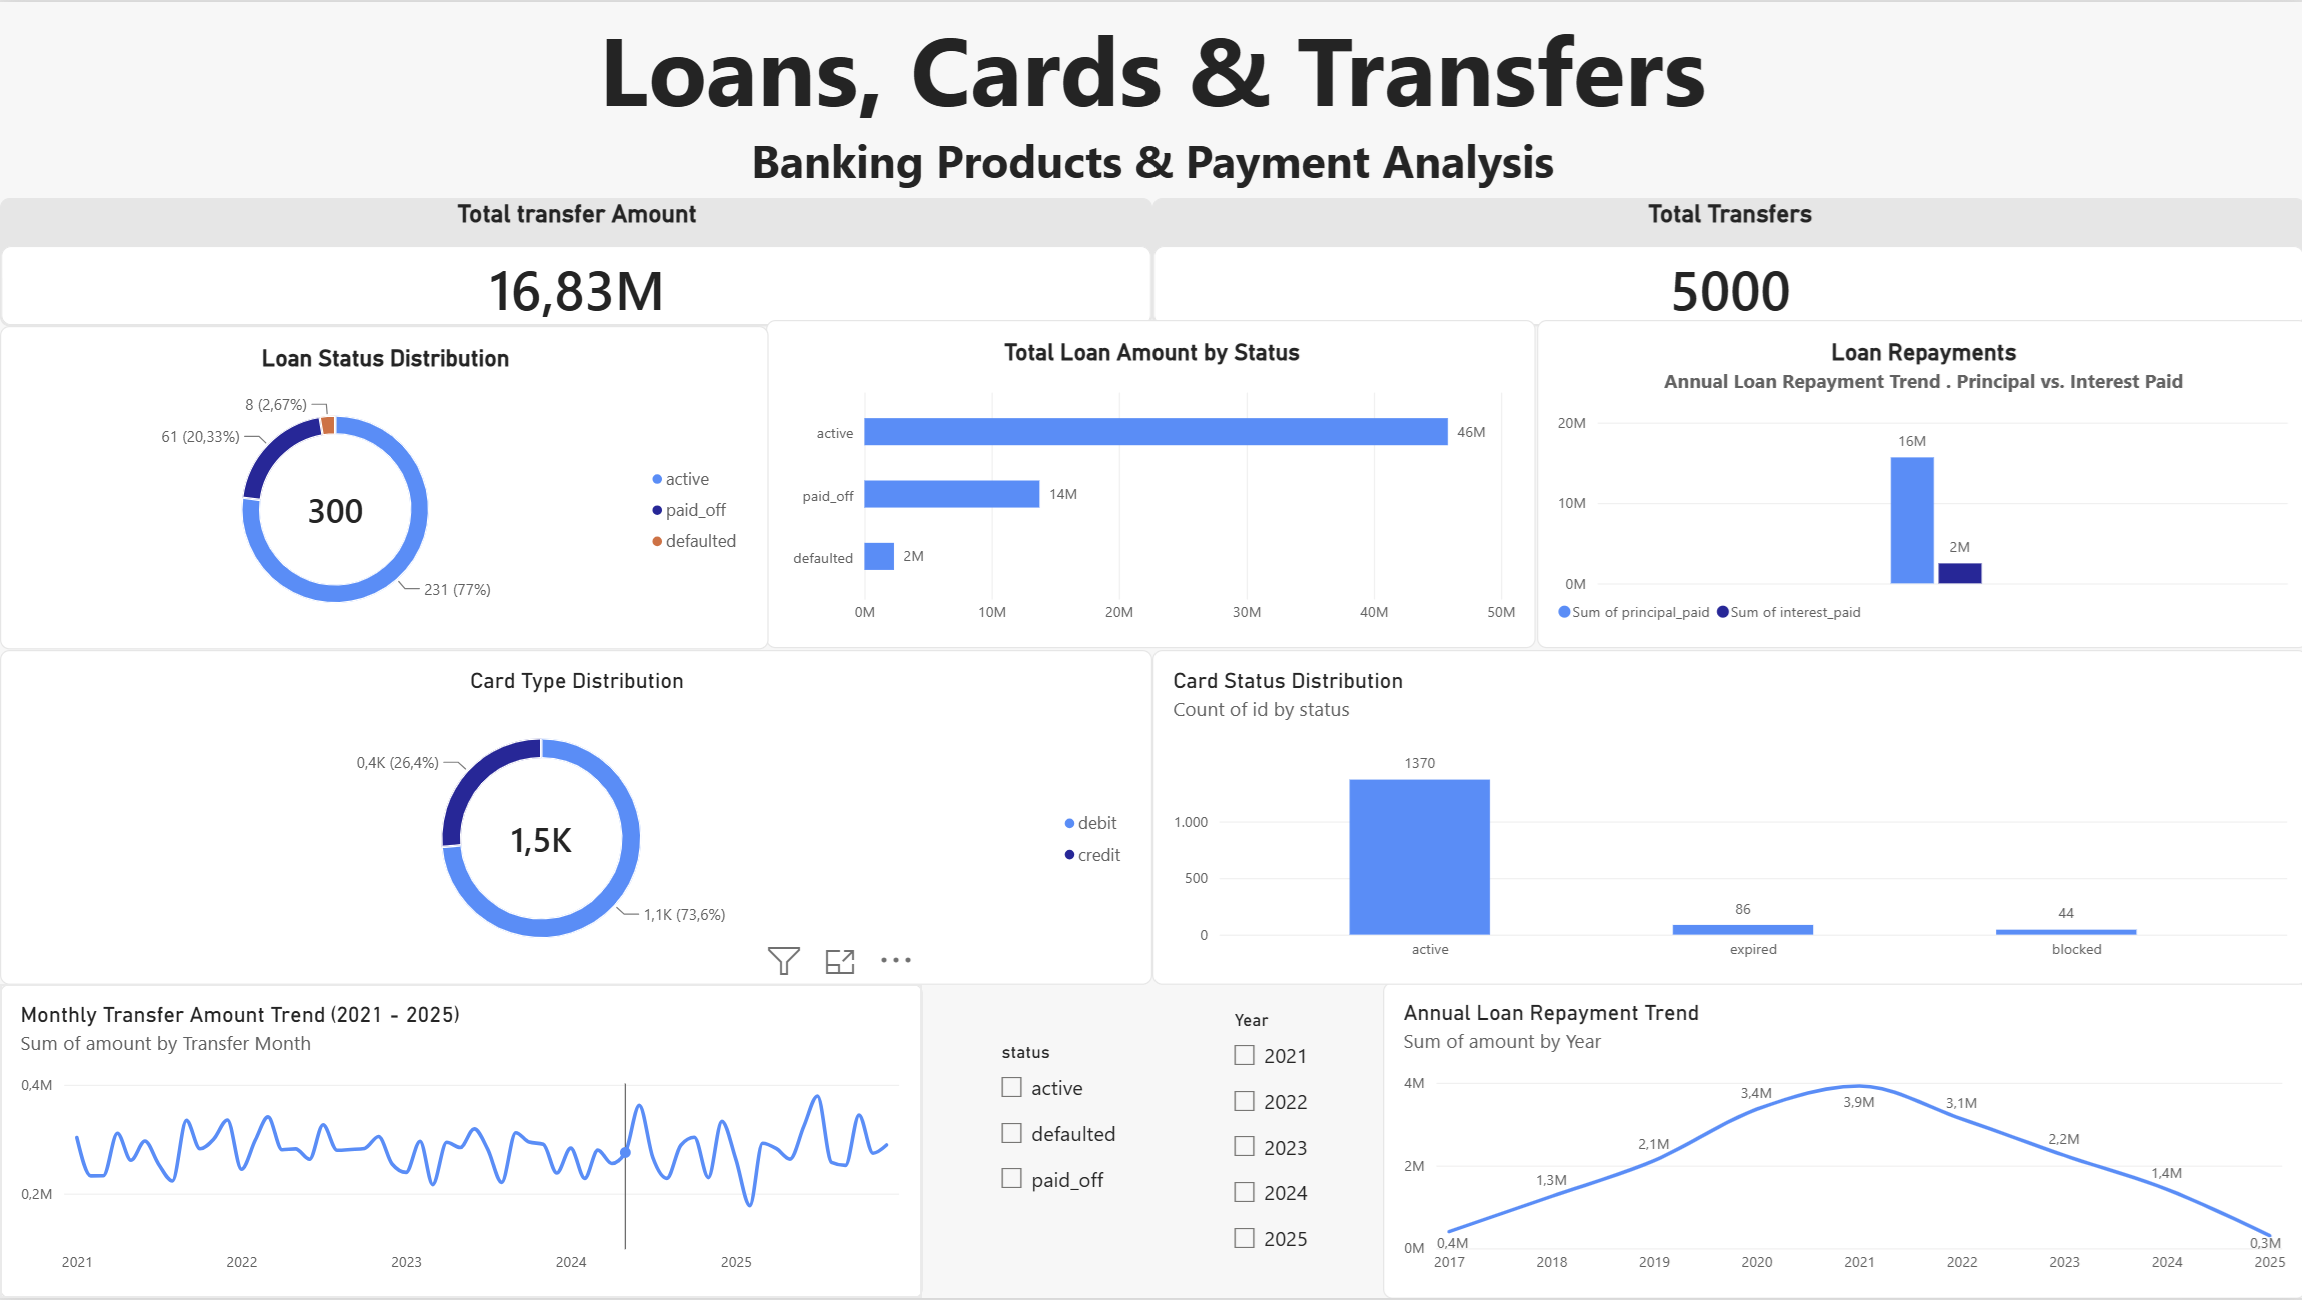

The dashboard page shown, as its layout file describes it:
{"tool":"powerbi","page":{"name":"Loans, Cards & Transfers","canvas":[1920,1080],"ordinal":1},"visuals":[{"type":"lineChart","title":"Annual Loan Repayment Trend","fields":{"Category":["public loan_payments.payment_date.Variation.Date Hierarchy.Year","public loan_payments.payment_date.Variation.Date Hierarchy.Quarter","public loan_payments.payment_date.Variation.Date Hierarchy.Month","public loan_payments.payment_date.Variation.Date Hierarchy.Day"],"Y":["Sum(public loan_payments.amount)"]},"box":[1151.2,816.6,768.8,263.9],"z":0},{"type":"donutChart","title":"Card Type Distribution","fields":{"Category":["public cards.type"],"Y":["CountNonNull(public cards.id)"]},"box":[0,539.3,960,279.2],"z":1000},{"type":"clusteredColumnChart","title":"Card Status Distribution","fields":{"Category":["public cards.status"],"Y":["CountNonNull(public cards.id)"]},"box":[960,539.3,961.9,279.2],"z":2000},{"type":"cardVisual","title":"Total transfer Amount","fields":{"Data":["Sum(public transfers.amount)"]},"box":[0,162.5,960,107.1],"z":3000},{"type":"cardVisual","title":"Total Transfers","fields":{"Data":["CountNonNull(public transfers.id)"]},"box":[960,162.5,960,107.1],"z":4000},{"type":"lineChart","title":"Monthly Transfer Amount Trend (2021 - 2025)","fields":{"Category":["public transfers.Transfer Month"],"Y":["Sum(public transfers.amount)"]},"box":[0,818.5,768.8,262],"z":5000},{"type":"slicer","fields":{"Values":["public transfers.timestamp.Variation.Date Hierarchy.Year"]},"box":[1019.3,839.5,95.6,218],"z":6000},{"type":"slicer","fields":{"Values":["public loans.status"]},"box":[826.1,866.3,133.9,139.6],"z":7000},{"type":"clusteredBarChart","title":"Total Loan Amount by Status","fields":{"Category":["public loans.status"],"Y":["Sum(public loans.amount)"]},"box":[638.7,265.8,640.6,273.5],"z":8000},{"type":"donutChart","title":"Loan Status Distribution","fields":{"Category":["public loans.status"],"Y":["CountNonNull(public loans.id)"]},"box":[0,269.6,640.6,269.6],"z":9000},{"type":"clusteredColumnChart","title":"Loan Repayments","fields":{"Y":["Sum(public loan_payments.principal_paid)","Sum(public loan_payments.interest_paid)"]},"box":[1279.4,265.8,642.5,273.5],"z":10000},{"type":"textbox","box":[0,0,1920,162.5],"z":11000}]}

Visuals, with their boxes in screenshot pixels (x1, y1, x2, y2), scaled from the page's 1920x1080 canvas onto the 2302x1300 screenshot:
"Annual Loan Repayment Trend" lineChart: locate(1380, 983, 2301, 1299)
"Card Type Distribution" donutChart: locate(0, 649, 1151, 985)
"Card Status Distribution" clusteredColumnChart: locate(1151, 649, 2301, 985)
"Total transfer Amount" cardVisual: locate(0, 196, 1151, 325)
"Total Transfers" cardVisual: locate(1151, 196, 2301, 325)
"Monthly Transfer Amount Trend (2021 - 2025)" lineChart: locate(0, 985, 922, 1299)
slicer - public transfers.timestamp.Variation.Date Hierarchy.Year: locate(1222, 1011, 1337, 1273)
slicer - public loans.status: locate(990, 1043, 1151, 1211)
"Total Loan Amount by Status" clusteredBarChart: locate(766, 320, 1534, 649)
"Loan Status Distribution" donutChart: locate(0, 325, 768, 649)
"Loan Repayments" clusteredColumnChart: locate(1534, 320, 2301, 649)
textbox: locate(0, 0, 2301, 196)
